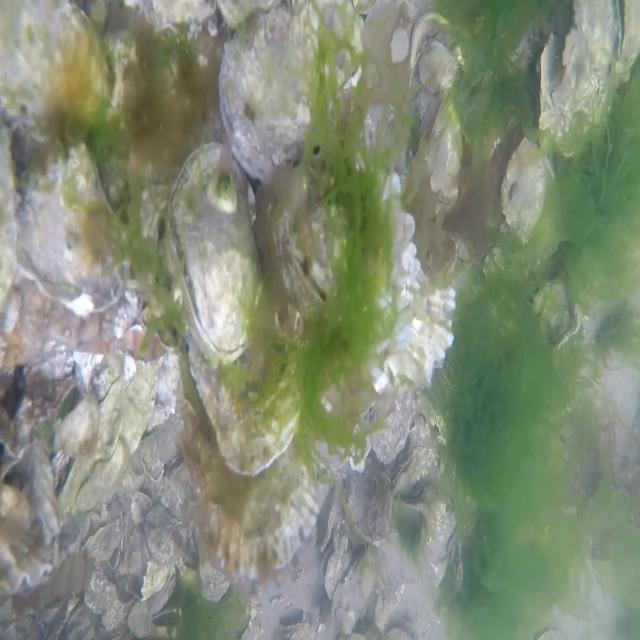Oyster-Closed: (217, 0, 363, 182), (168, 142, 262, 365), (15, 144, 130, 313), (0, 0, 109, 129), (502, 145, 550, 238), (425, 91, 462, 208), (318, 477, 339, 554), (391, 446, 424, 495)
Oyster-Indeterminate: (277, 170, 456, 396), (194, 376, 319, 577), (187, 287, 309, 479), (57, 364, 156, 509), (538, 0, 614, 139), (342, 438, 392, 545), (408, 9, 466, 88), (0, 516, 52, 594), (332, 554, 379, 634), (372, 382, 413, 462), (199, 532, 232, 602), (398, 482, 428, 518)
Oyster-Open: (615, 0, 640, 76), (320, 545, 353, 600)
